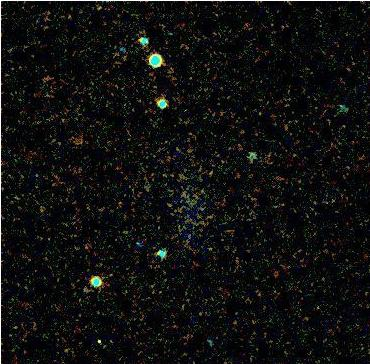star: (83, 327, 113, 357)
